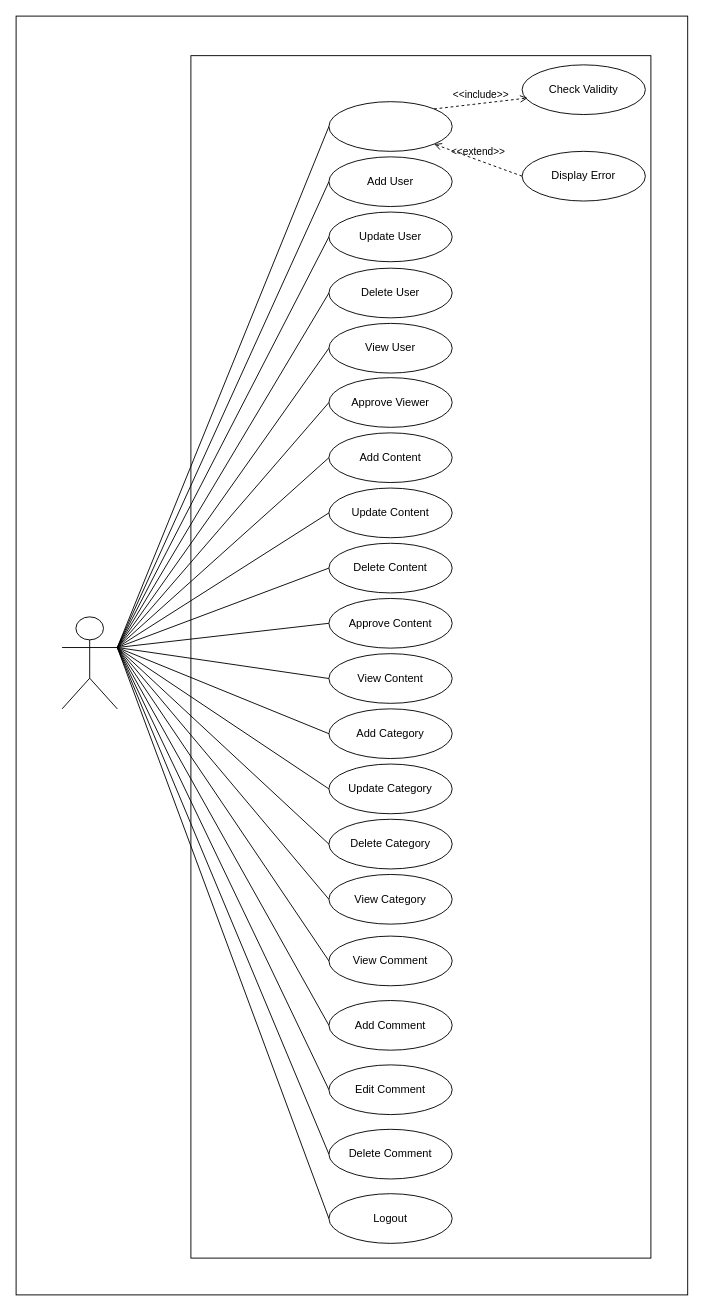
This 704x1311 diagram has some shape labels left out. The centre of each missing label's shape, as x and y in pixels:
"Admin" goes at point 89,662.
"Login" goes at point 390,126.
